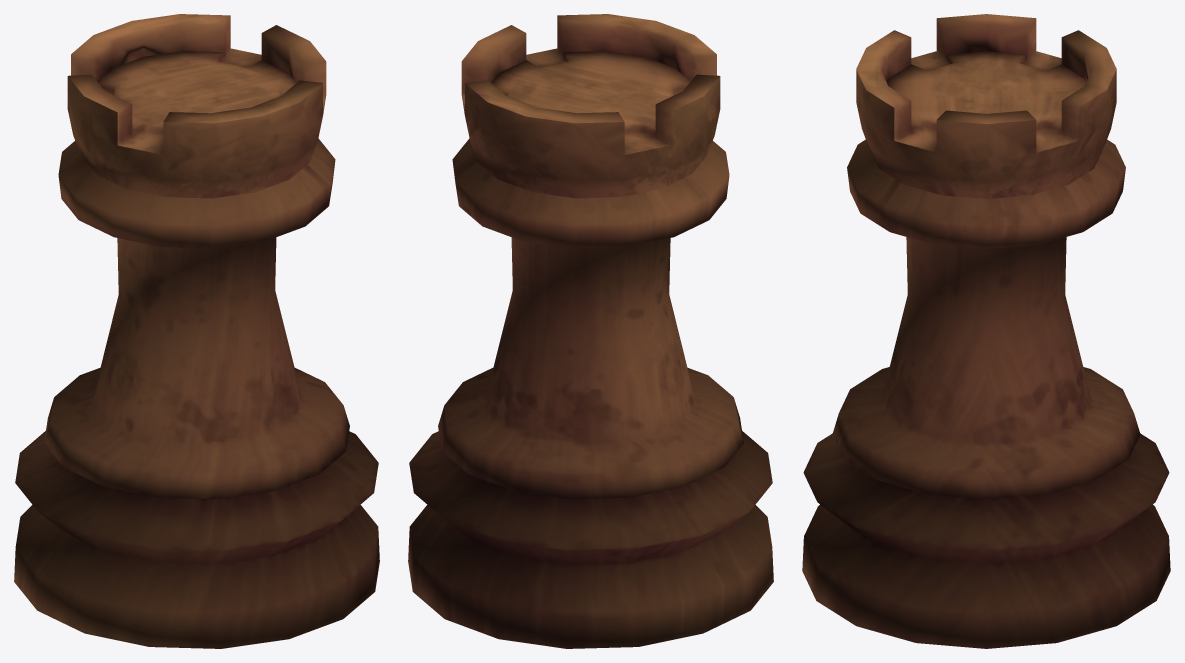
Rendered from rook.glb.
3 views of the same model, side by side, from view 1: azimuth 30°, elevation 25°; view 2: azimuth 150°, elevation 25°; view 3: azimuth 270°, elevation 25° (orthographic).
Visible parts, largest first — view 1: Tower_2_Light; view 2: Tower_2_Light; view 3: Tower_2_Light.
Boxes of the visible parts, x1,y1,x2,y2 form: Tower_2_Light: [14, 14, 379, 648]; Tower_2_Light: [408, 14, 773, 648]; Tower_2_Light: [802, 14, 1170, 648].
Size of the model in its own units: 0.093 by 0.1399 by 0.093.
Materials: 1 (1 with a texture image).
